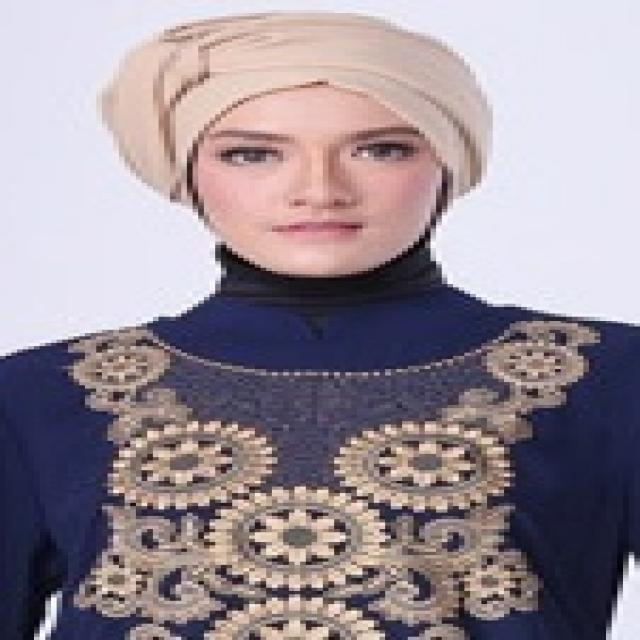head: (131, 17, 495, 294)
